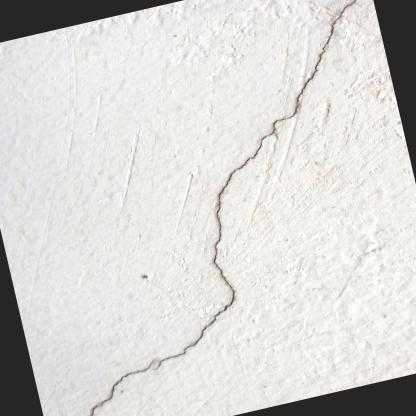crack: (88, 0, 358, 416)
